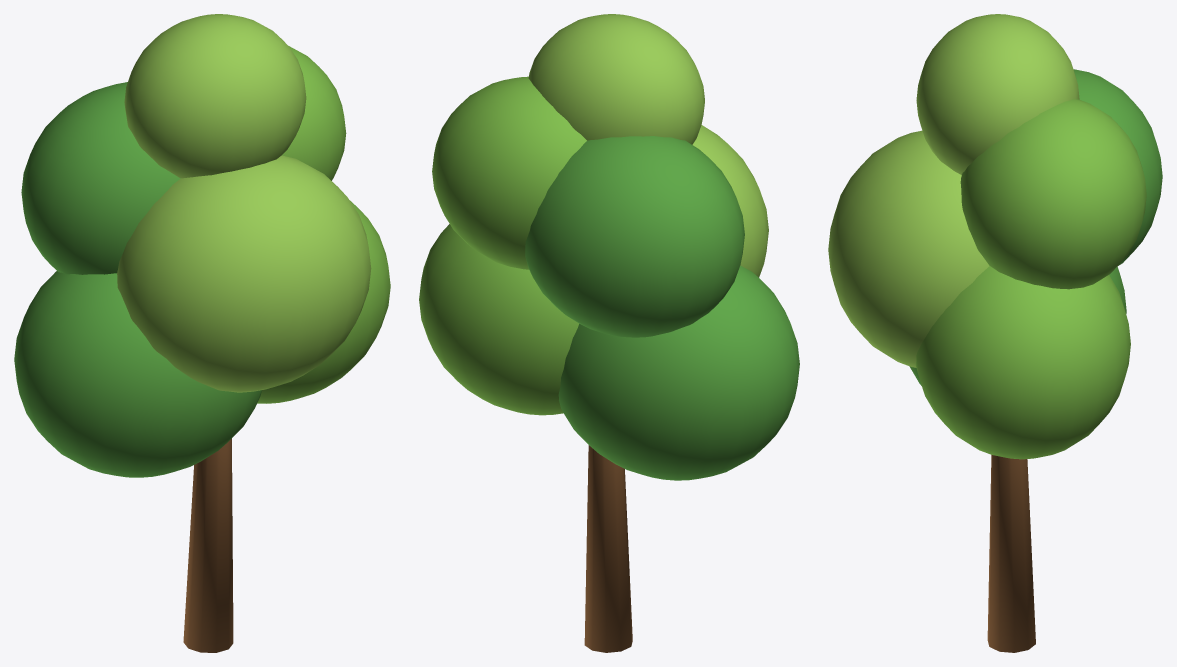
Rendered from lone-tree.glb.
The picture shows the model from 3 angles, left to right: view 1: azimuth 30°, elevation 25°; view 2: azimuth 150°, elevation 25°; view 3: azimuth 270°, elevation 25°; orthographic projection.
Visible parts, largest first — view 1: Lone Tree trunk; view 2: Lone Tree trunk; view 3: Lone Tree trunk.
Boxes of the visible parts, x1=… form: Lone Tree trunk: x1=14, y1=14, x2=390, y2=652; Lone Tree trunk: x1=419, y1=14, x2=799, y2=652; Lone Tree trunk: x1=828, y1=14, x2=1162, y2=652.
Size of the model in its own units: 5.93 by 10.01 by 4.9.
